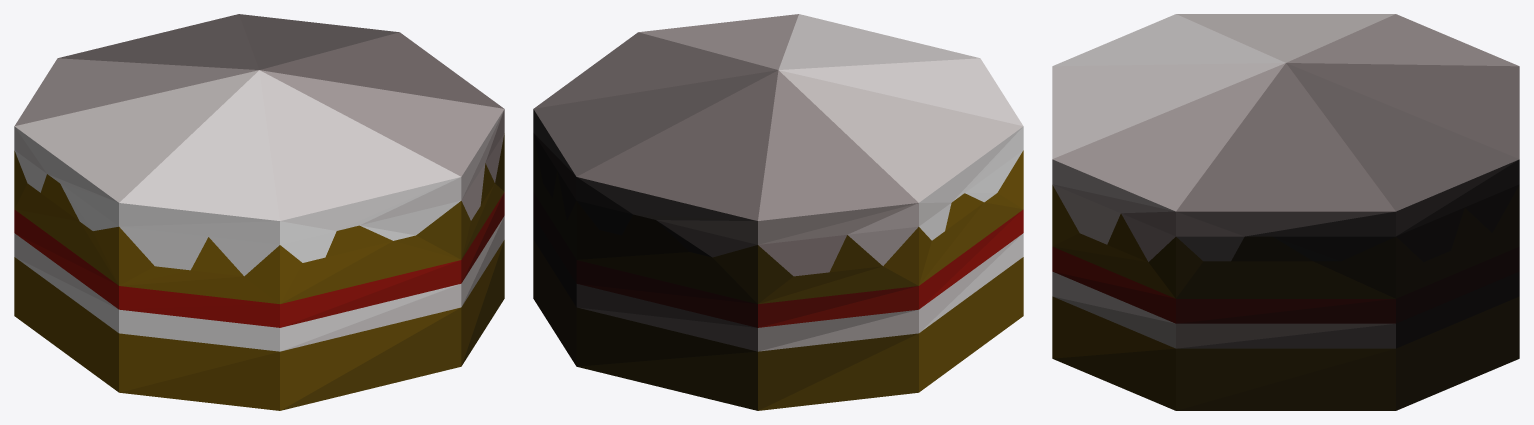
File: cake.obj
3 views of the same model, side by side, from view 1: azimuth 30°, elevation 25°; view 2: azimuth 150°, elevation 25°; view 3: azimuth 270°, elevation 25° (orthographic). The views are drawn at different scales.
Visible parts, largest first — view 1: Item Cake 2026-09-13_16-41-43; view 2: Item Cake 2026-09-13_16-41-43; view 3: Item Cake 2026-09-13_16-41-43.
Part boxes in pixels (x1,y1,x2,y2): Item Cake 2026-09-13_16-41-43: [14, 14, 504, 410]; Item Cake 2026-09-13_16-41-43: [533, 14, 1023, 410]; Item Cake 2026-09-13_16-41-43: [1052, 14, 1519, 410].
Bounding box in the file's own units: 34 × 20 × 34.
